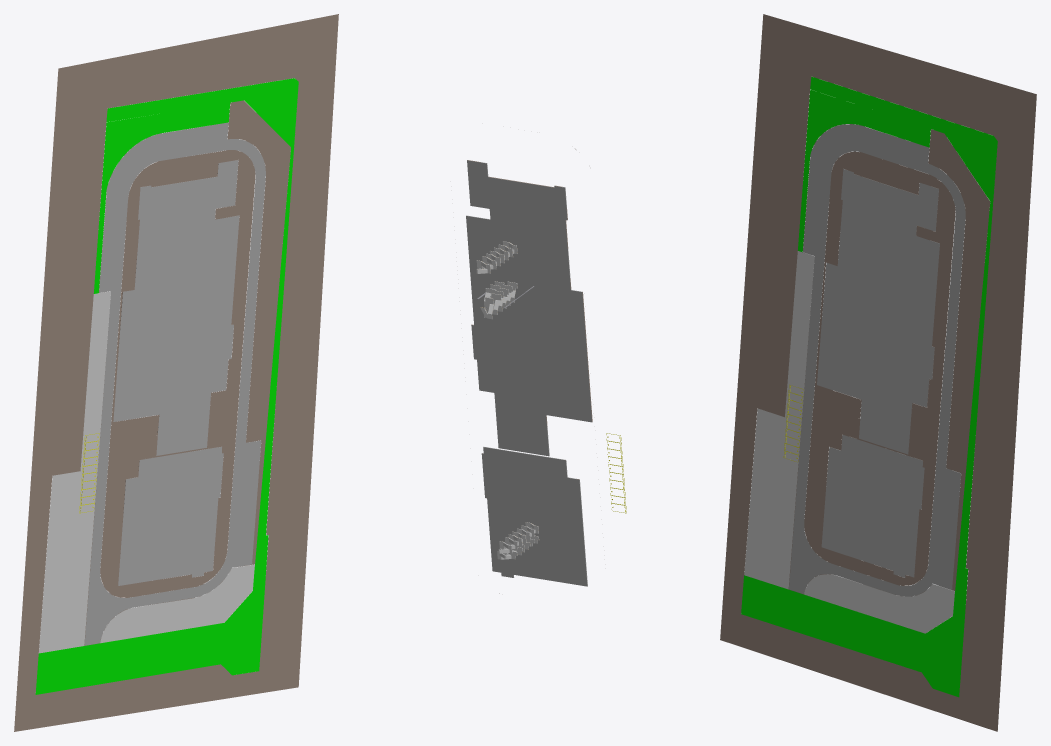
File: main.glb
3 renders of one model, left to right at view 1: azimuth 30°, elevation 25°; view 2: azimuth 150°, elevation 25°; view 3: azimuth 330°, elevation 25°, orthographic. The views are drawn at different scales.
Visible parts, largest first — view 1: 0d027ae2-689e-494e-b395-ee23b5b6d50a-0069cf8d-94ae241d-8f28-, ef0c7598-8756-4017-bd74-0e11a0737b99-006a9db7-MaterialNode_8, 2ce150f0-d4a6-4939-b625-4daa02cee735-006a8c66-2ce150f0-d4a6-, 0d027ae2-689e-494e-b395-ee23b5b6d50a-0069d375-7c91be6b-11bd-, 0d027ae2-689e-494e-b395-ee23b5b6d50a-0069d62a-94ae241d-8f28-, ef0c7598-8756-4017-bd74-0e11a0737b99-006a9d65-MaterialNode_8, 0d027ae2-689e-494e-b395-ee23b5b6d50a-0069d3d3-2ce150f0-d4a6-, 0d027ae2-689e-494e-b395-ee23b5b6d50a-0069d6fd-2ce150f0-d4a6-, 0d027ae2-689e-494e-b395-ee23b5b6d50a-0069d737-7c91be6b-11bd-; view 2: ef0c7598-8756-4017-bd74-0e11a0737b99-006a9db7-MaterialNode_8, ef0c7598-8756-4017-bd74-0e11a0737b99-006a9d65-MaterialNode_8; view 3: 0d027ae2-689e-494e-b395-ee23b5b6d50a-0069cf8d-94ae241d-8f28-, ef0c7598-8756-4017-bd74-0e11a0737b99-006a9db7-MaterialNode_8, 2ce150f0-d4a6-4939-b625-4daa02cee735-006a8c66-2ce150f0-d4a6-, 0d027ae2-689e-494e-b395-ee23b5b6d50a-0069d375-7c91be6b-11bd-, 0d027ae2-689e-494e-b395-ee23b5b6d50a-0069d62a-94ae241d-8f28-, ef0c7598-8756-4017-bd74-0e11a0737b99-006a9d65-MaterialNode_8, 0d027ae2-689e-494e-b395-ee23b5b6d50a-0069d3d3-2ce150f0-d4a6-, 0d027ae2-689e-494e-b395-ee23b5b6d50a-0069d6fd-2ce150f0-d4a6-, 0d027ae2-689e-494e-b395-ee23b5b6d50a-0069d737-7c91be6b-11bd-.
Boxes of the visible parts, x1,y1,x2,y2 form: 0d027ae2-689e-494e-b395-ee23b5b6d50a-0069cf8d-94ae241d-8f28-: [14, 14, 338, 731]; ef0c7598-8756-4017-bd74-0e11a0737b99-006a9db7-MaterialNode_8: [113, 160, 239, 455]; 2ce150f0-d4a6-4939-b625-4daa02cee735-006a8c66-2ce150f0-d4a6-: [84, 122, 265, 645]; 0d027ae2-689e-494e-b395-ee23b5b6d50a-0069d375-7c91be6b-11bd-: [35, 78, 298, 694]; 0d027ae2-689e-494e-b395-ee23b5b6d50a-0069d62a-94ae241d-8f28-: [100, 150, 255, 597]; ef0c7598-8756-4017-bd74-0e11a0737b99-006a9d65-MaterialNode_8: [118, 446, 223, 585]; 0d027ae2-689e-494e-b395-ee23b5b6d50a-0069d3d3-2ce150f0-d4a6-: [39, 291, 110, 653]; 0d027ae2-689e-494e-b395-ee23b5b6d50a-0069d6fd-2ce150f0-d4a6-: [100, 564, 254, 643]; 0d027ae2-689e-494e-b395-ee23b5b6d50a-0069d737-7c91be6b-11bd-: [93, 102, 230, 293]; ef0c7598-8756-4017-bd74-0e11a0737b99-006a9db7-MaterialNode_8: [466, 160, 592, 456]; ef0c7598-8756-4017-bd74-0e11a0737b99-006a9d65-MaterialNode_8: [481, 446, 587, 586]; 0d027ae2-689e-494e-b395-ee23b5b6d50a-0069cf8d-94ae241d-8f28-: [720, 14, 1036, 731]; ef0c7598-8756-4017-bd74-0e11a0737b99-006a9db7-MaterialNode_8: [817, 169, 939, 454]; 2ce150f0-d4a6-4939-b625-4daa02cee735-006a8c66-2ce150f0-d4a6-: [789, 124, 965, 596]; 0d027ae2-689e-494e-b395-ee23b5b6d50a-0069d375-7c91be6b-11bd-: [741, 76, 997, 697]; 0d027ae2-689e-494e-b395-ee23b5b6d50a-0069d62a-94ae241d-8f28-: [804, 151, 955, 585]; ef0c7598-8756-4017-bd74-0e11a0737b99-006a9d65-MaterialNode_8: [821, 435, 924, 577]; 0d027ae2-689e-494e-b395-ee23b5b6d50a-0069d3d3-2ce150f0-d4a6-: [744, 251, 814, 589]; 0d027ae2-689e-494e-b395-ee23b5b6d50a-0069d6fd-2ce150f0-d4a6-: [804, 574, 954, 633]; 0d027ae2-689e-494e-b395-ee23b5b6d50a-0069d737-7c91be6b-11bd-: [798, 89, 930, 252].
Bounding box in the file's own units: 125 × 249 × 24.36.
